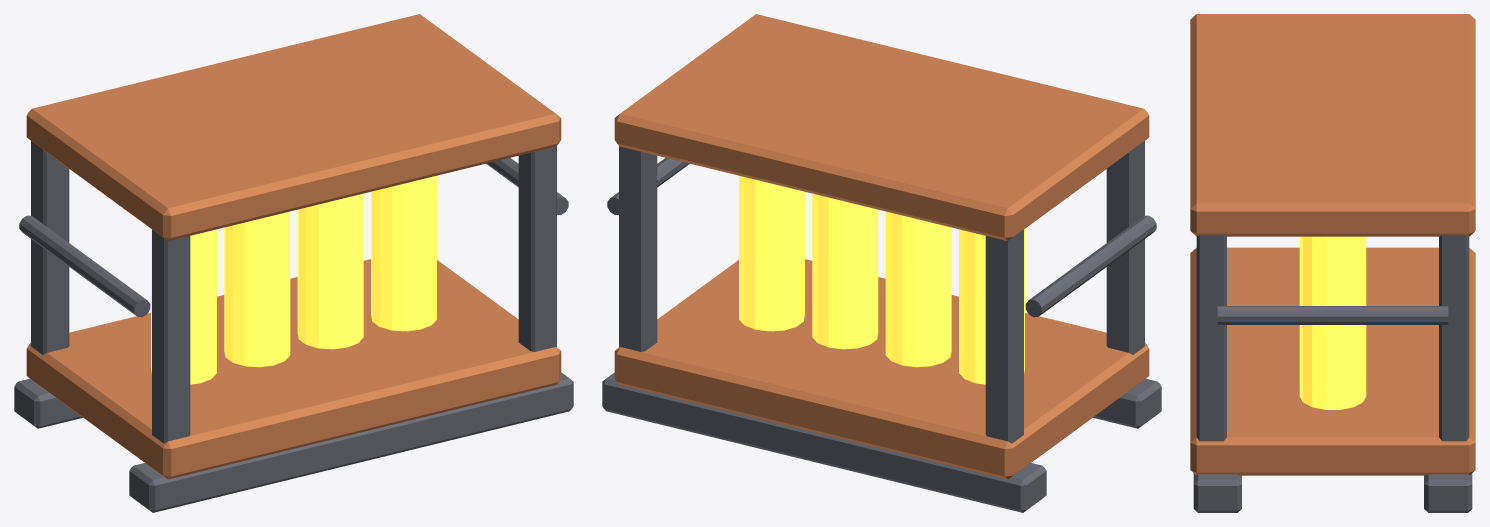
File: prop_conteiner_acumuladores.glb
The picture shows the model from 3 angles, left to right: view 1: azimuth 30°, elevation 25°; view 2: azimuth 150°, elevation 25°; view 3: azimuth 270°, elevation 25°; orthographic projection.
Visible parts, largest first — view 1: Top_Cap, Base_Deck, Skid_-0.38, Thermal_Cell_-0.14, Thermal_Cell_0.14, Thermal_Cell_0.42, Post_-0.7_-0.4, Post_0.7_-0.4, Post_-0.7_0.4, Thermal_Cell_-0.42, Handle_-0.7, Skid_0.38 (+1 smaller); view 2: Top_Cap, Base_Deck, Skid_0.38, Thermal_Cell_-0.14, Thermal_Cell_0.14, Thermal_Cell_0.42, Post_-0.7_0.4, Post_0.7_0.4, Post_-0.7_-0.4, Thermal_Cell_-0.42, Handle_-0.7, Skid_-0.38 (+1 smaller); view 3: Top_Cap, Base_Deck, Thermal_Cell_0.42, Post_0.7_0.4, Post_0.7_-0.4, Handle_0.7, Skid_0.38, Skid_-0.38.
Part boxes in pixels (x1,y1,x2,y2): Top_Cap: [26, 14, 561, 240]; Base_Deck: [26, 259, 561, 479]; Skid_-0.38: [129, 372, 573, 512]; Thermal_Cell_-0.14: [224, 211, 290, 367]; Thermal_Cell_0.14: [297, 193, 363, 349]; Thermal_Cell_0.42: [371, 175, 436, 331]; Post_-0.7_-0.4: [152, 229, 190, 443]; Post_0.7_-0.4: [518, 146, 556, 351]; Post_-0.7_0.4: [31, 141, 69, 354]; Thermal_Cell_-0.42: [151, 229, 216, 384]; Handle_-0.7: [19, 215, 150, 317]; Skid_0.38: [14, 378, 82, 428]; Top_Cap: [614, 14, 1149, 240]; Base_Deck: [614, 259, 1149, 479]; Skid_0.38: [602, 372, 1046, 512]; Thermal_Cell_-0.14: [885, 211, 951, 367]; Thermal_Cell_0.14: [812, 193, 878, 349]; Thermal_Cell_0.42: [739, 175, 804, 331]; Post_-0.7_0.4: [985, 229, 1023, 443]; Post_0.7_0.4: [619, 146, 657, 351]; Post_-0.7_-0.4: [1106, 141, 1144, 354]; Thermal_Cell_-0.42: [959, 229, 1024, 384]; Handle_-0.7: [1025, 215, 1156, 317]; Skid_-0.38: [1093, 378, 1161, 428]; Top_Cap: [1190, 14, 1475, 236]; Base_Deck: [1190, 247, 1475, 475]; Thermal_Cell_0.42: [1299, 236, 1366, 409]; Post_0.7_0.4: [1439, 235, 1469, 441]; Post_0.7_-0.4: [1196, 235, 1226, 441]; Handle_0.7: [1217, 306, 1448, 324]; Skid_0.38: [1424, 473, 1472, 512]; Skid_-0.38: [1193, 473, 1241, 512].
Size of the model in its own units: 1.66 by 1.1 by 0.94.
